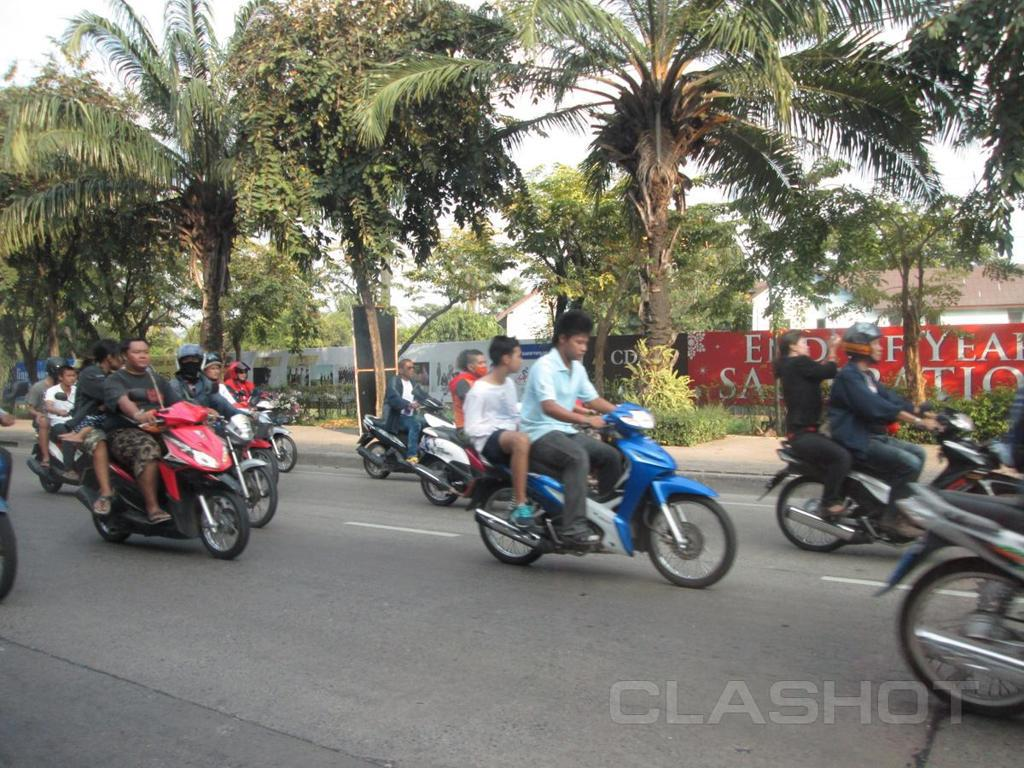face: (567, 333, 590, 361), (129, 342, 150, 368), (502, 346, 522, 373), (865, 337, 884, 362), (468, 356, 487, 377), (107, 349, 123, 371), (791, 338, 810, 356), (183, 356, 200, 375), (206, 365, 221, 381), (63, 371, 76, 386), (404, 363, 415, 378), (239, 370, 248, 382)
